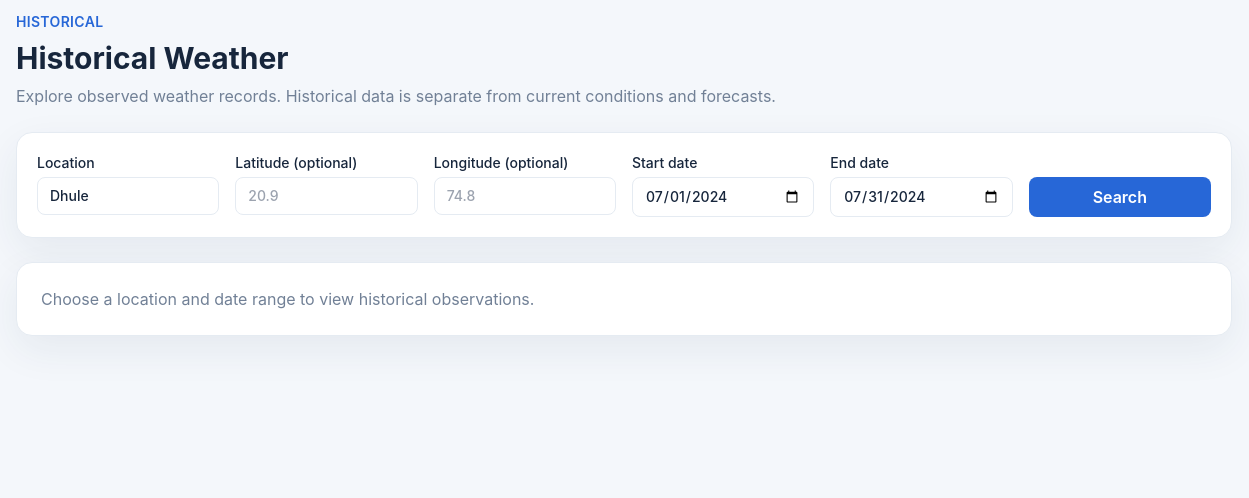
Test case: Historical page › explains when the configured IMD archive is not installed
Click the button "Search".
click(1120, 197)  # box [1029,177,1211,217]
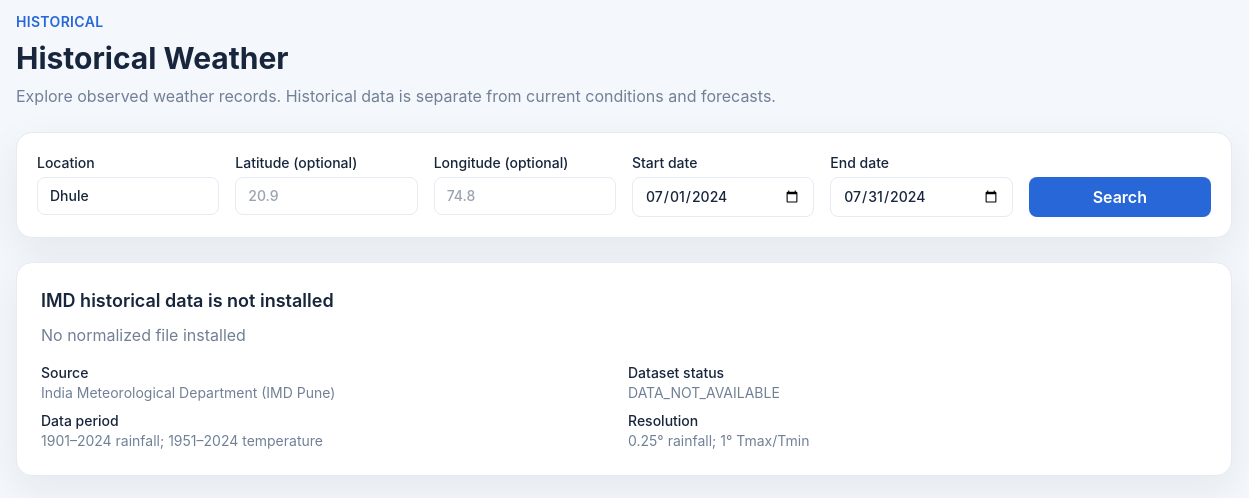
Expected: the heading "IMD historical data is not installed" is shown, [41,290,334,311]
Expected: the text "0.25° rainfall; 1° Tmax/Tmin" is shown, [628,432,810,449]
